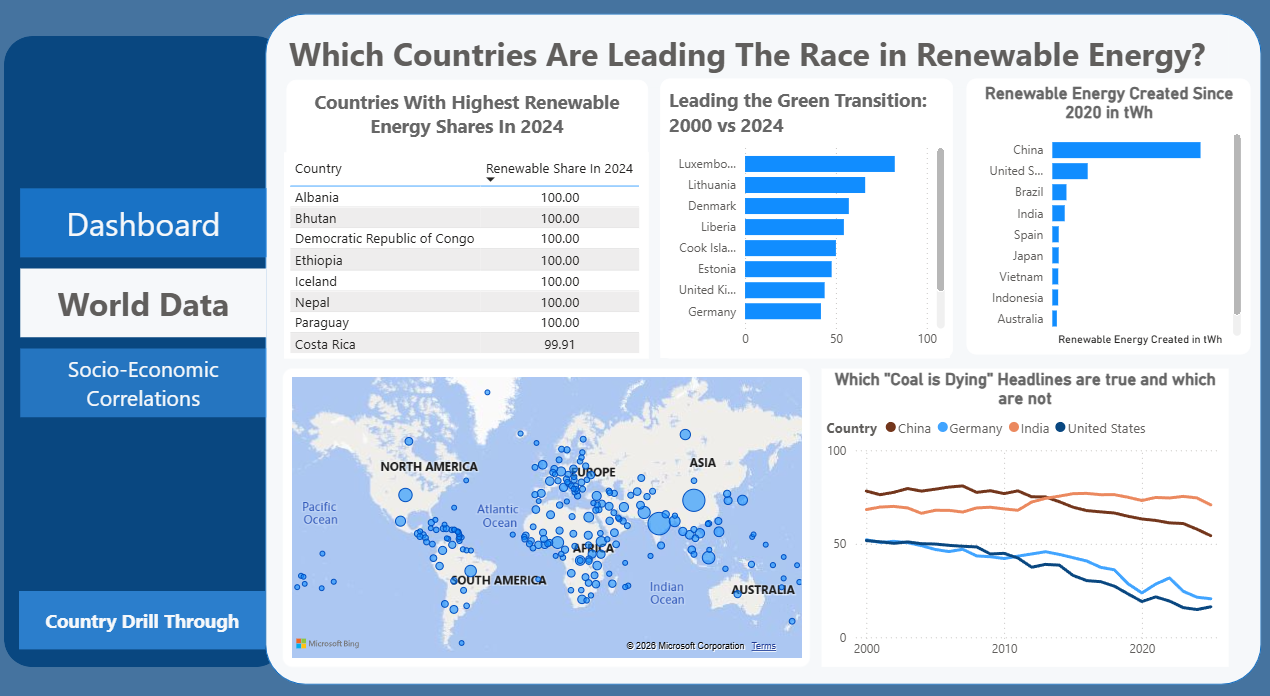

What the dashboard file says about the page in this screenshot:
{"tool":"powerbi","page":{"name":"World Data","canvas":[1280,720],"ordinal":1},"visuals":[{"type":"group","id":"g1","title":"Sidebar","box":[0,0,1280,703.8],"z":0},{"type":"shape","box":[0,0,1280,703.8],"z":0,"group":"g1"},{"type":"shape","box":[10,40,280,631.2],"z":1000,"group":"g1"},{"type":"actionButton","box":[25,595,246.2,58.8],"z":1000},{"type":"shape","box":[271.2,17.5,996.2,671.2],"z":2000,"group":"g1"},{"type":"map","fields":{"Category":["country_dim.country"],"Size":["country_dim._newestPopulation"]},"box":[288.8,372.5,527.5,298.8],"z":2000},{"type":"textbox","box":[290,31.2,945,60],"z":3000,"group":"g1"},{"type":"lineChart","title":"Which \"Coal is Dying\" Headlines are true and which are not","fields":{"Category":["date_dim.year_id"],"Y":["Sum(energy_fact.coal_share_elec)"],"Series":["country_dim.country"]},"box":[827.5,372.5,407.5,298.8],"z":3000},{"type":"textbox","box":[292.5,83.1,361.2,277.5],"z":3500,"group":"g2"},{"type":"group","id":"g2","title":"Group 1","box":[290,83.1,365,278.8],"z":4000},{"type":"actionButton","box":[26.2,192.7,246.2,68.5],"z":4000,"group":"g1"},{"type":"tableEx","fields":{"Values":["country_dim.country","_Measures.Avg_Renewable_Share_Elec_2024"]},"box":[290,155.6,365,206.2],"z":4001,"group":"g2"},{"type":"actionButton","box":[26.2,272.5,246.2,68.8],"z":4500,"group":"g1"},{"type":"actionButton","box":[26.2,352.5,246.2,68.8],"z":5000,"group":"g1"},{"type":"group","id":"g3","title":"Group 2","box":[666.2,82.5,292.5,280],"z":6000},{"type":"clusteredBarChart","title":"Renewable Energy Created Since 2020 in tWh","fields":{"Category":["country_dim.country"],"Y":["_Measures.Added_Renewables_TWh_2020_2024"]},"box":[972.5,82.5,283.8,276.2],"z":7000},{"type":"textbox","box":[666.2,82.5,292.5,280],"z":9250,"group":"g3"},{"type":"barChart","fields":{"Category":["country_dim.country"],"Y":["_Measures.Progress_Percentage_2010_2024"]},"box":[666.2,139.1,289.7,222.9],"z":9750,"group":"g3"}]}

Visuals, with their boxes in screenshot pixels (x1, y1, x2, y2), scaled from the page's 1280x720 canvas onto the 1270x696 screenshot:
"Sidebar" group: 0 0 1269 680
shape: 0 0 1269 680
shape: 10 39 288 649
actionButton: 25 575 269 632
shape: 269 17 1257 666
map - country_dim.country x country_dim._newestPopulation: 287 360 810 649
textbox: 288 30 1225 88
"Which "Coal is Dying" Headlines are true and which are not" lineChart: 821 360 1225 649
textbox: 290 80 649 349
"Group 1" group: 288 80 650 350
actionButton: 26 186 270 252
tableEx - country_dim.country x _Measures.Avg_Renewable_Share_Elec_2024: 288 150 650 350
actionButton: 26 263 270 330
actionButton: 26 341 270 407
"Group 2" group: 661 80 951 350
"Renewable Energy Created Since 2020 in tWh" clusteredBarChart: 965 80 1246 347
textbox: 661 80 951 350
barChart - country_dim.country x _Measures.Progress_Percentage_2010_2024: 661 134 948 350
